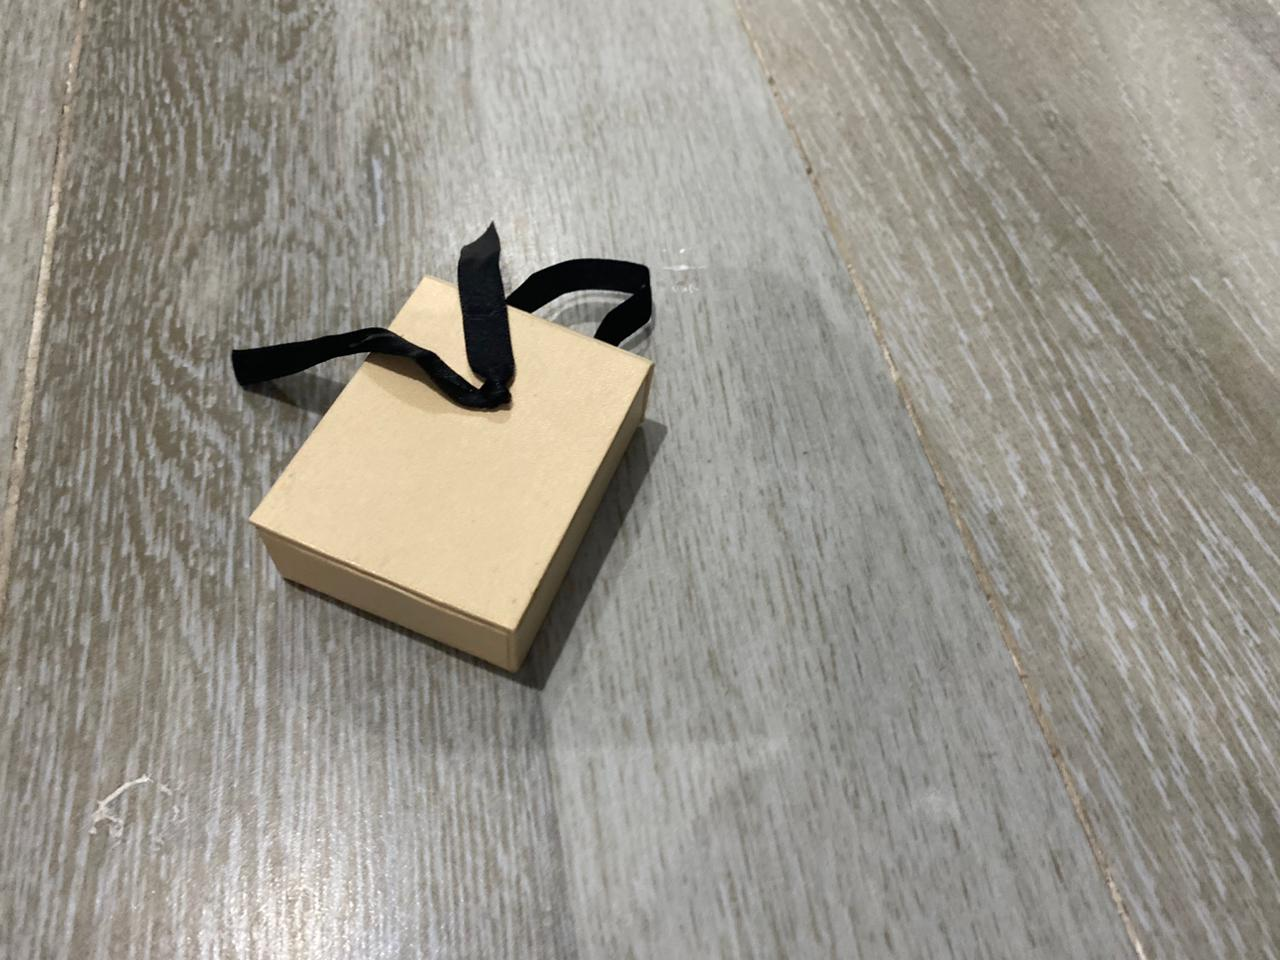Yellow Box: (243, 271, 661, 682)
